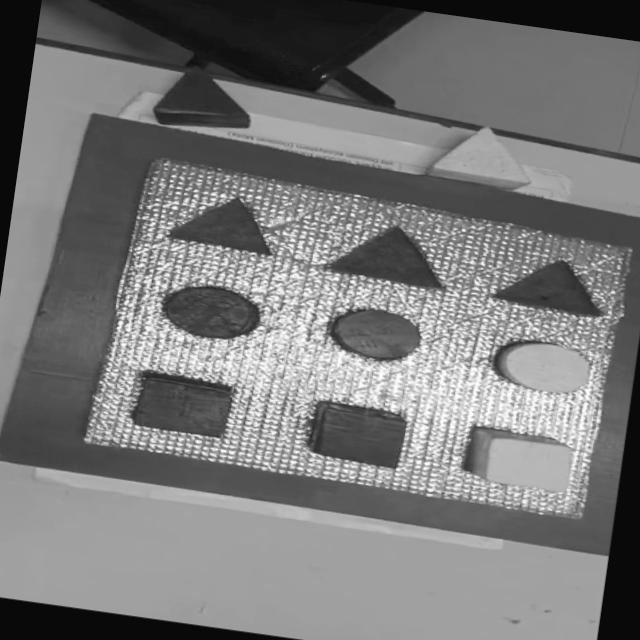bcircle: (160, 280, 266, 345)
bcube: (132, 372, 236, 440)
mttriangle: (323, 216, 453, 292), (165, 188, 282, 258), (493, 250, 612, 318)
rcircle: (330, 304, 426, 365)
rcube: (309, 400, 411, 470)
rtriangle: (153, 65, 250, 128)
wb: (81, 154, 640, 522)
ycircle: (489, 335, 596, 400)
ycube: (464, 426, 578, 496)
ytriangle: (426, 120, 540, 194)
